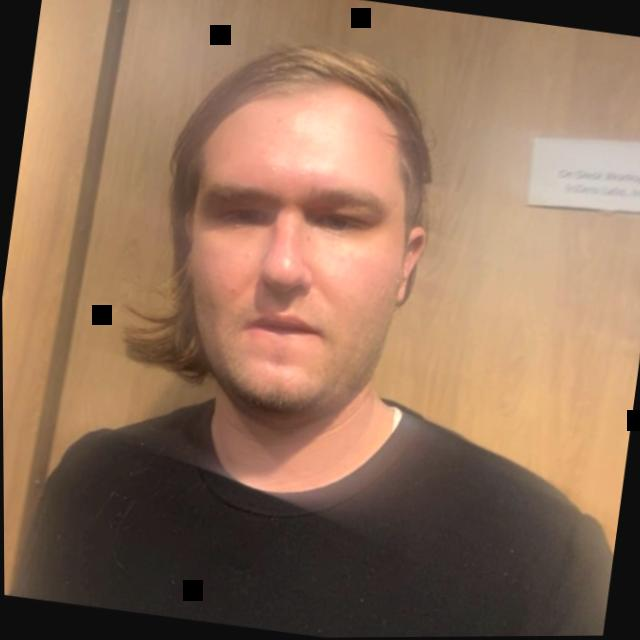NO-Mask: (72, 0, 479, 528)
